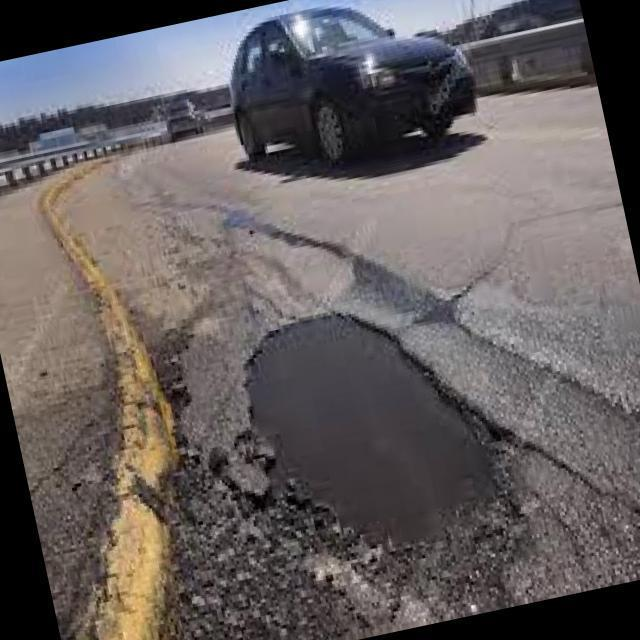Pothole: (242, 312, 508, 534)
